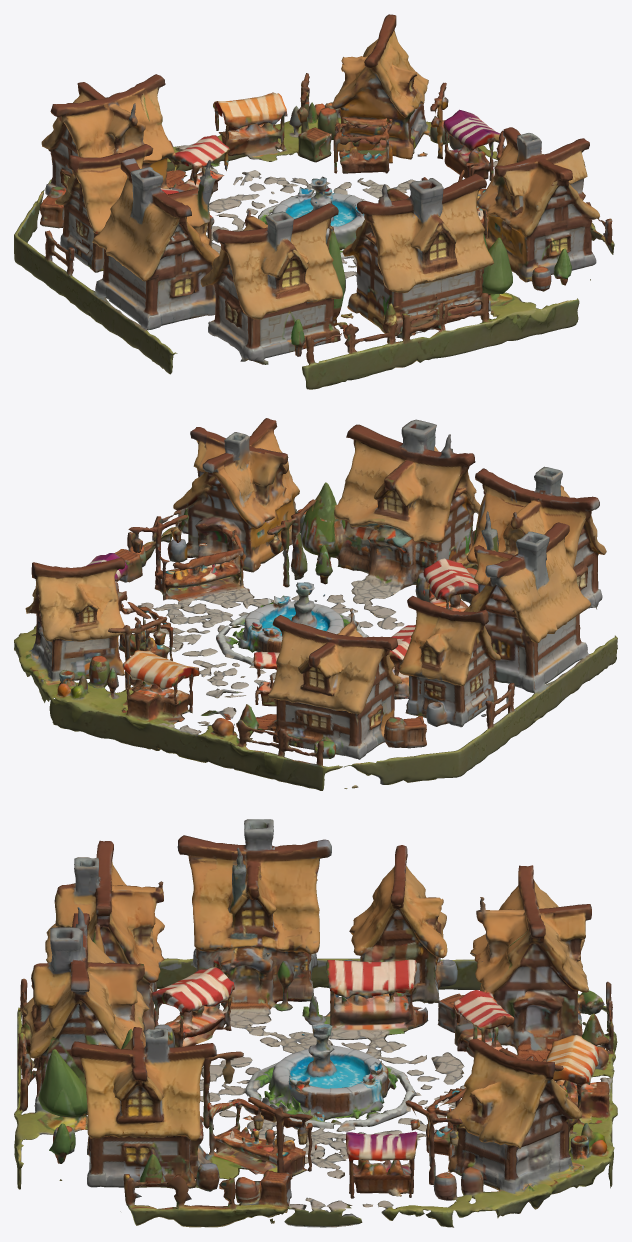
Rendered from Town_Hub.glb.
3 views of the same model, one above another, from view 1: azimuth 30°, elevation 25°; view 2: azimuth 150°, elevation 25°; view 3: azimuth 270°, elevation 25° (orthographic). The views are drawn at different scales.
Visible parts, largest first — view 1: texture_mapping; view 2: texture_mapping; view 3: texture_mapping.
Part boxes in pixels (x1,y1,x2,y2): texture_mapping: (14, 14, 614, 389); texture_mapping: (14, 418, 617, 790); texture_mapping: (14, 819, 617, 1227).
Size of the model in its own units: 0.9953 by 0.3453 by 0.9962.
1 material, 1 textured.
